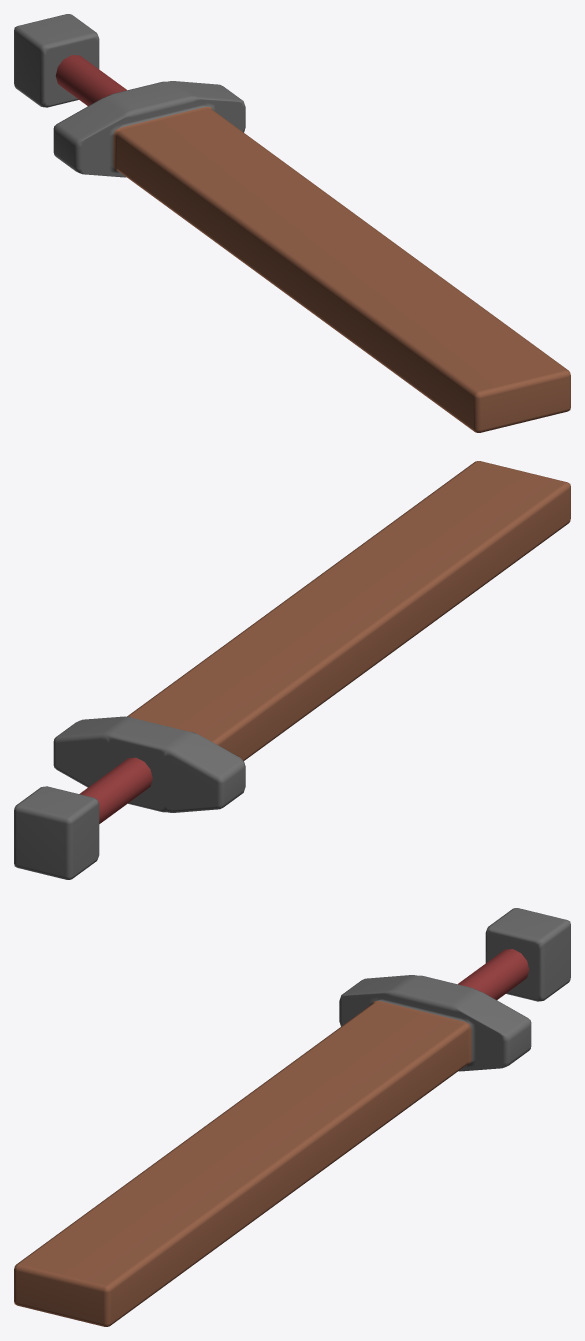
Rendered from Enemy01_Sword01.fbx.
The picture shows the model from 3 angles, top to bottom: view 1: azimuth 30°, elevation 25°; view 2: azimuth 150°, elevation 25°; view 3: azimuth 330°, elevation 25°; orthographic projection.
Visible parts, largest first — view 1: Enemy01_Sword02; view 2: Enemy01_Sword02; view 3: Enemy01_Sword02.
Part boxes in pixels (x1,y1,x2,y2): Enemy01_Sword02: (14, 14, 570, 432); Enemy01_Sword02: (14, 461, 570, 879); Enemy01_Sword02: (14, 908, 570, 1326).
Size of the model in its own units: 10.38 by 3.86 by 50.98.
